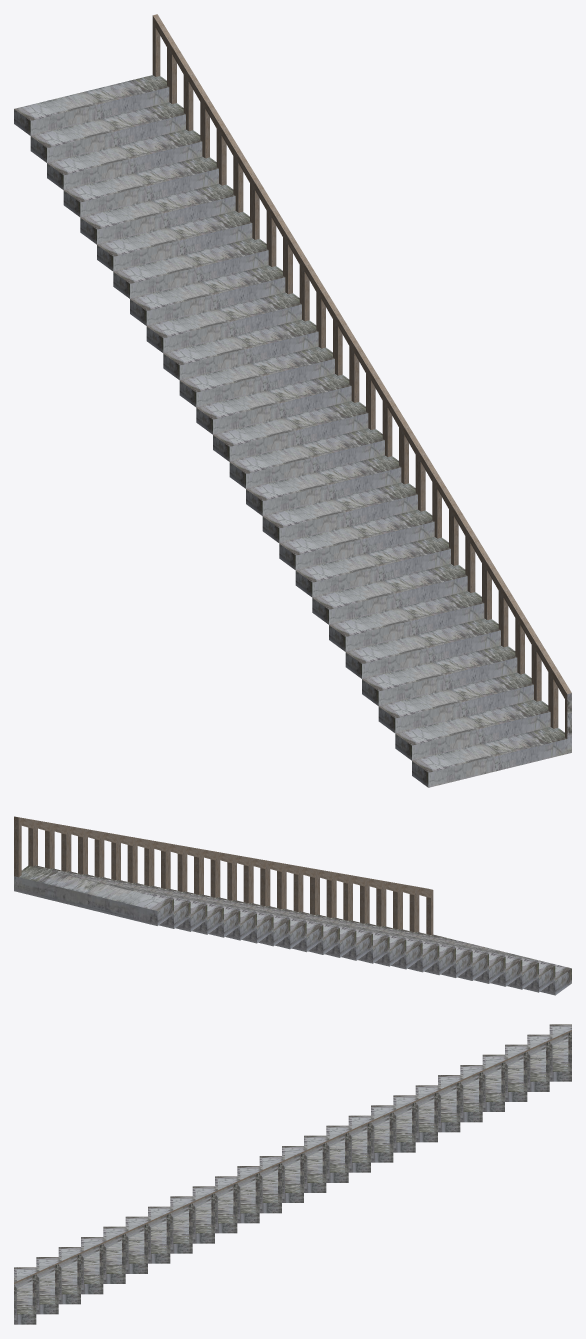
The model's file is Stair.fbx.
The picture shows the model from 3 angles, top to bottom: view 1: azimuth 30°, elevation 25°; view 2: azimuth 150°, elevation 25°; view 3: azimuth 270°, elevation 25°; orthographic projection. The views are drawn at different scales.
Parts seen in each view (by area): view 1: Stair_Down; view 2: Stair_Down; view 3: Stair_Down.
Boxes of the visible parts, left/top/right/bottom form: Stair_Down: left=14, top=14, right=571, bottom=787; Stair_Down: left=14, top=816, right=571, bottom=995; Stair_Down: left=14, top=1024, right=571, bottom=1324.
Size of the model in its own units: 500 by 1449 by 2500.
